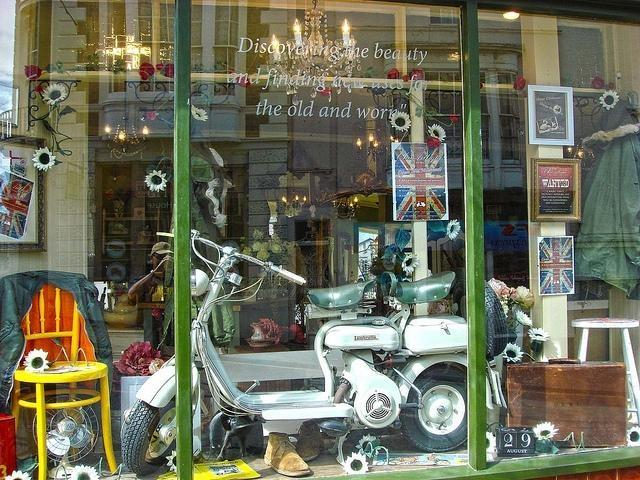motorcycle: (121, 232, 468, 476)
